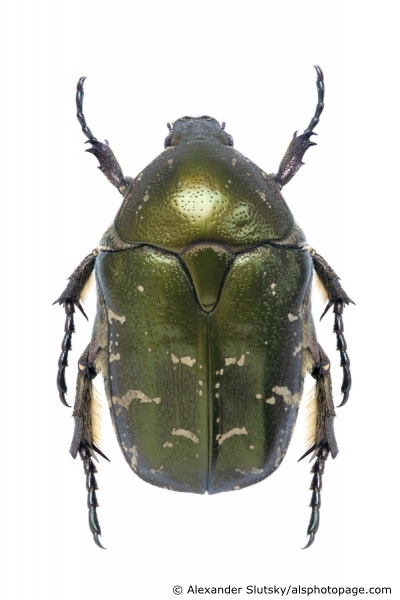Protaetia_metallica: (46, 57, 354, 551)
